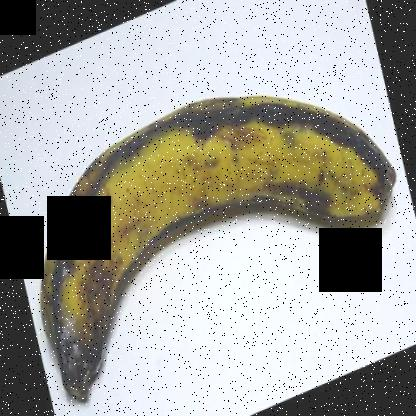overripe: (25, 79, 407, 397)
rotten: (42, 303, 134, 410)
